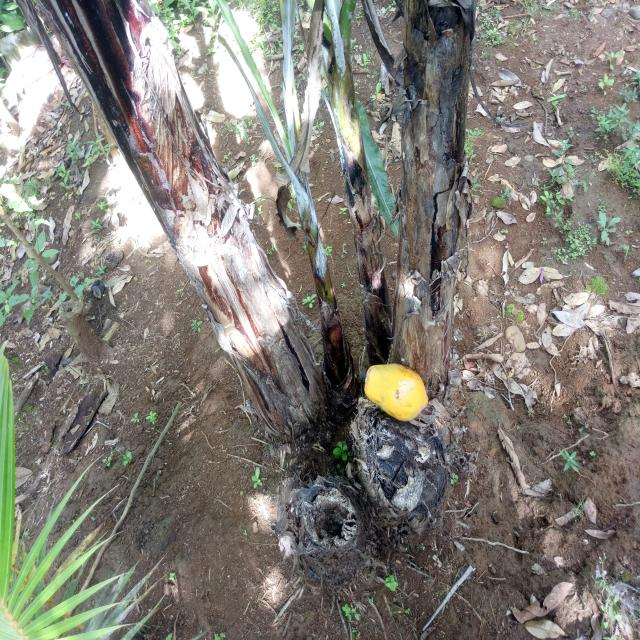Pepaya rippen: (358, 351, 428, 426)
